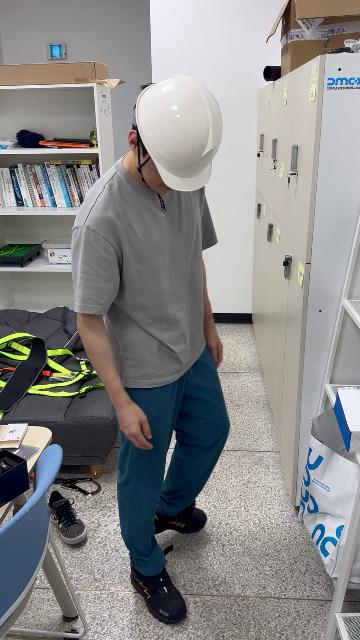helmet_worn: (132, 75, 223, 194)
shoe_not_worn: (47, 489, 87, 545)
shoe_worn: (130, 557, 187, 623), (155, 499, 206, 533)
vest_not_worn: (73, 161, 218, 376)
